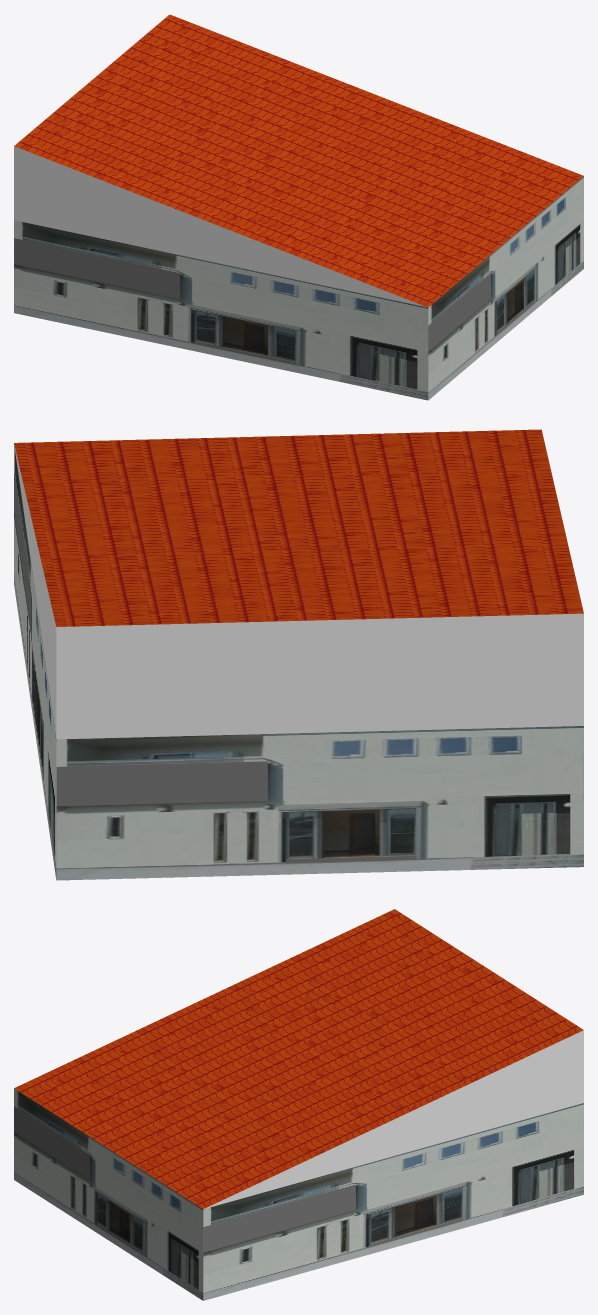
The picture shows the model from 3 angles, top to bottom: view 1: azimuth 30°, elevation 25°; view 2: azimuth 150°, elevation 25°; view 3: azimuth 270°, elevation 25°; orthographic projection. The views are drawn at different scales.
Parts seen in each view (by area): view 1: CityEngineMaterial_12_m, CityEngineMaterial_11_m, CityEngineMaterial_3_m; view 2: CityEngineMaterial_12_m, CityEngineMaterial_11_m, CityEngineMaterial_3_m; view 3: CityEngineMaterial_12_m, CityEngineMaterial_11_m, CityEngineMaterial_3_m.
Part boxes in pixels (x1=…): CityEngineMaterial_12_m: x1=14, y1=14, x2=583, y2=307; CityEngineMaterial_11_m: x1=14, y1=176, x2=583, y2=400; CityEngineMaterial_3_m: x1=14, y1=146, x2=426, y2=307; CityEngineMaterial_12_m: x1=14, y1=429, x2=583, y2=626; CityEngineMaterial_11_m: x1=14, y1=444, x2=583, y2=880; CityEngineMaterial_3_m: x1=14, y1=445, x2=583, y2=739; CityEngineMaterial_12_m: x1=14, y1=909, x2=583, y2=1209; CityEngineMaterial_11_m: x1=14, y1=1088, x2=583, y2=1300; CityEngineMaterial_3_m: x1=204, y1=1030, x2=583, y2=1208.
Size of the model in its own units: 28.53 by 9.63 by 30.23.
